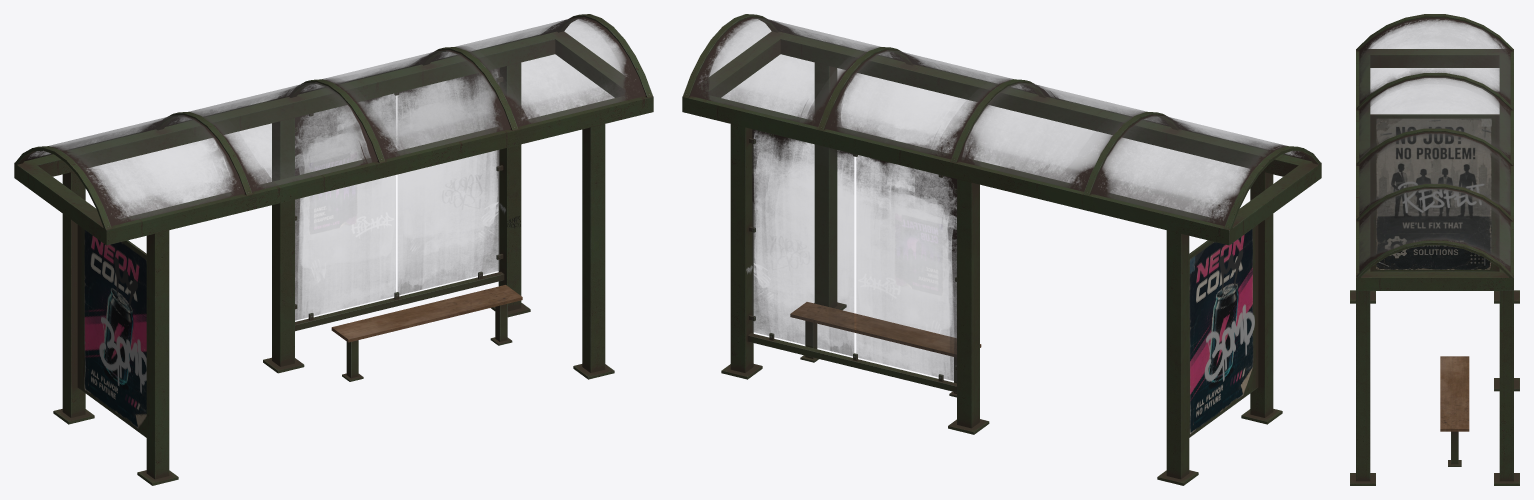
3 renders of one model, left to right at view 1: azimuth 30°, elevation 25°; view 2: azimuth 150°, elevation 25°; view 3: azimuth 270°, elevation 25°, orthographic. The views are drawn at different scales.
Parts seen in each view (by area): view 1: busStop; view 2: busStop; view 3: busStop.
Boxes of the visible parts, x1,y1,x2,y2 form: busStop: [14, 14, 653, 485]; busStop: [682, 14, 1321, 485]; busStop: [1350, 14, 1519, 485].
Size of the model in its own units: 5650 by 3002 by 1770.
Materials: 2 (2 with a texture image).
